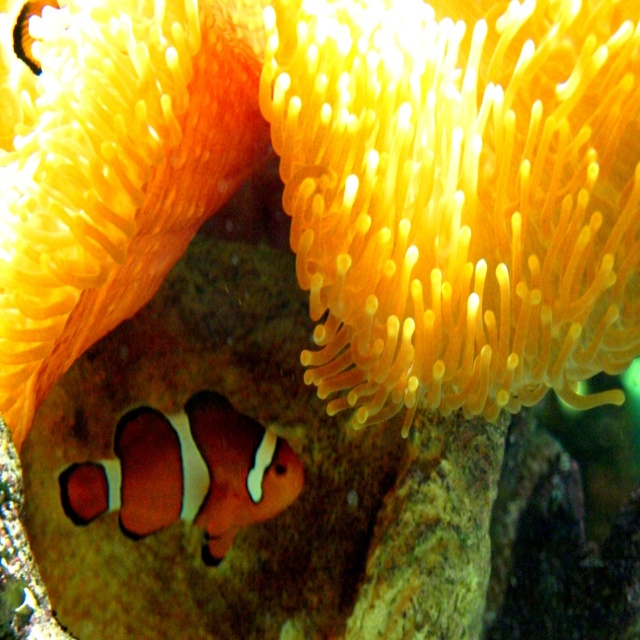Fish: (62, 386, 304, 566)
